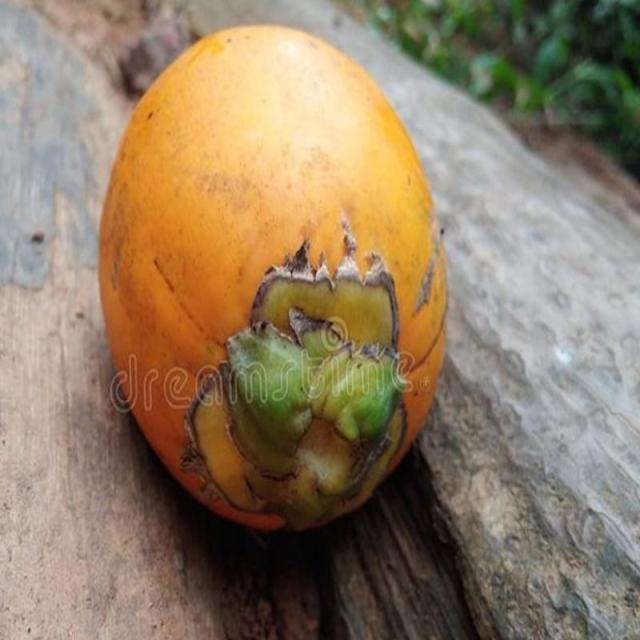good: (99, 26, 446, 530)
